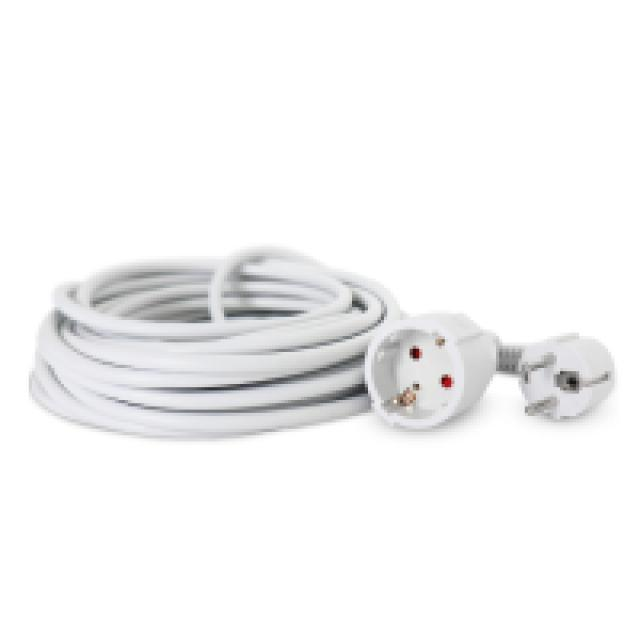typeb: (316, 267, 550, 471)
